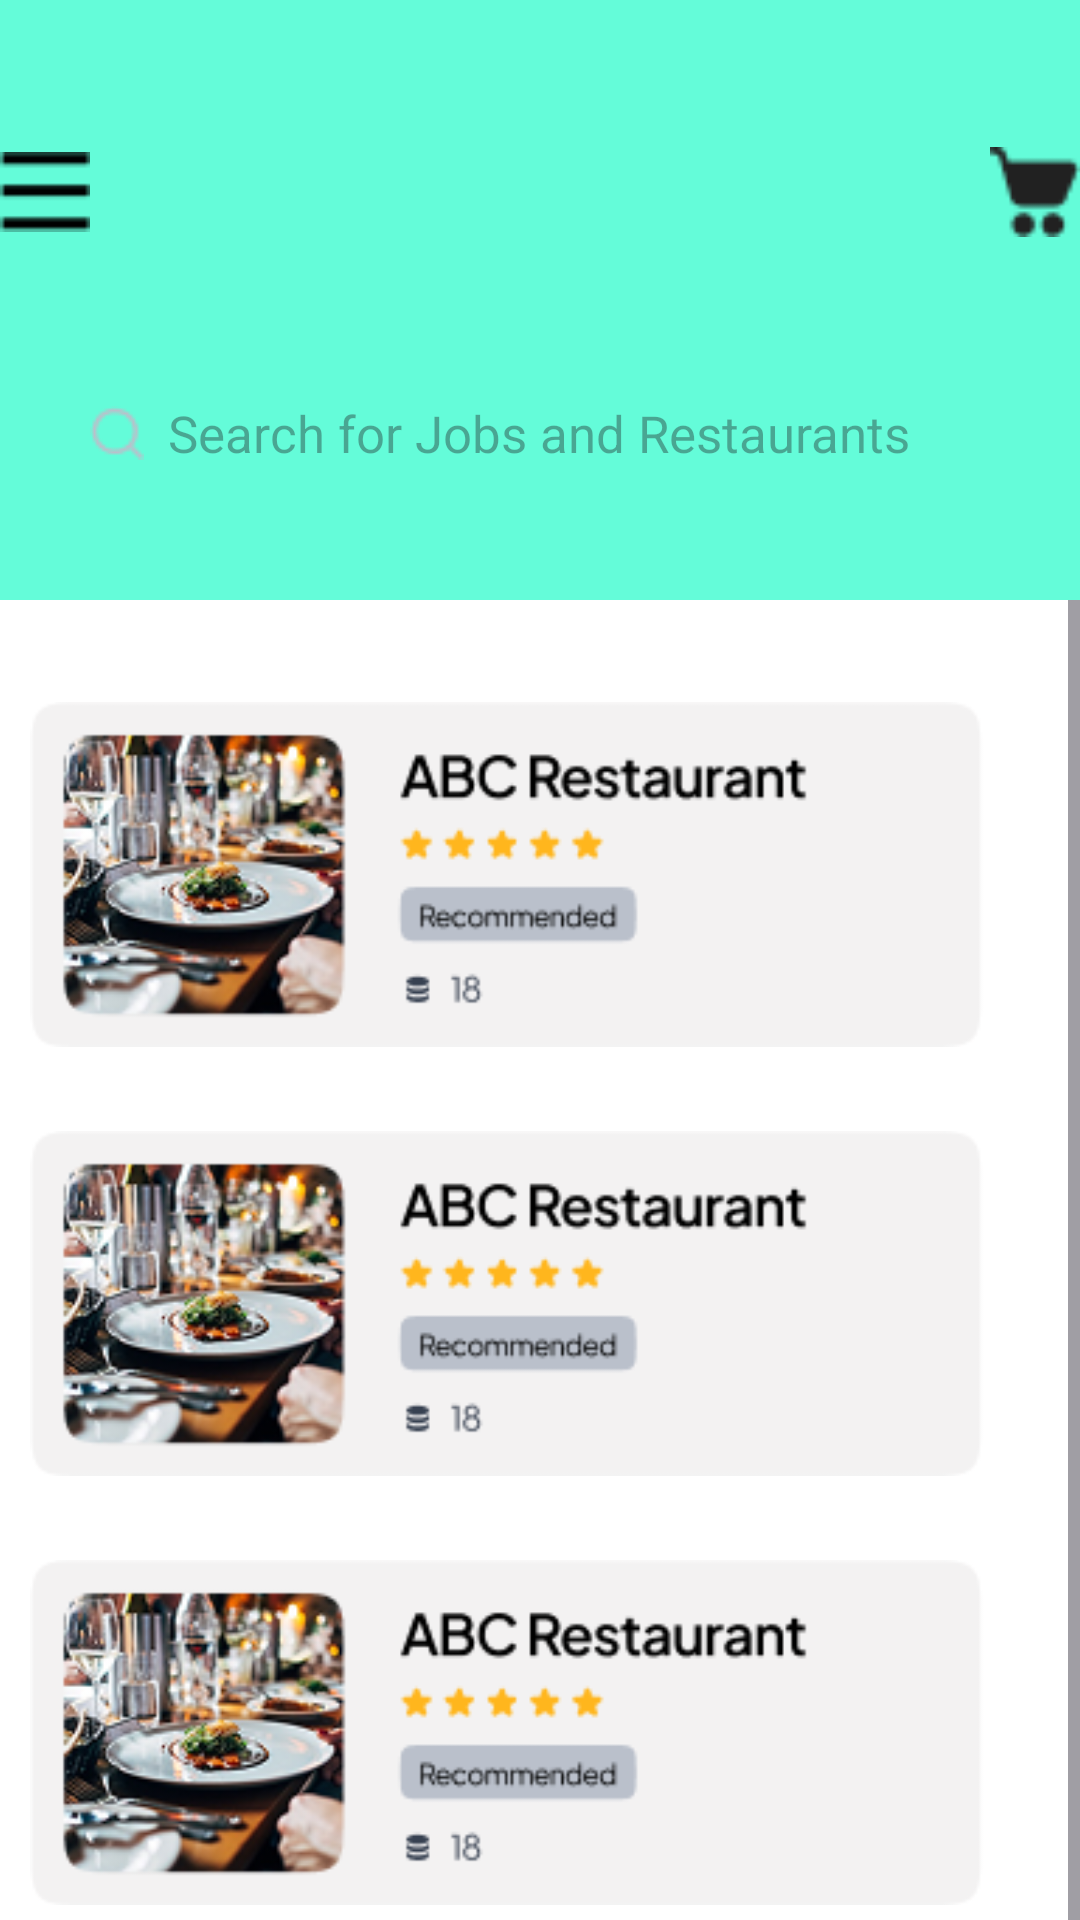

Named icons in this screenshot (1080x1920) and their centers, point (x, y):
cart: point (1035, 192)
menu: point (45, 192)
